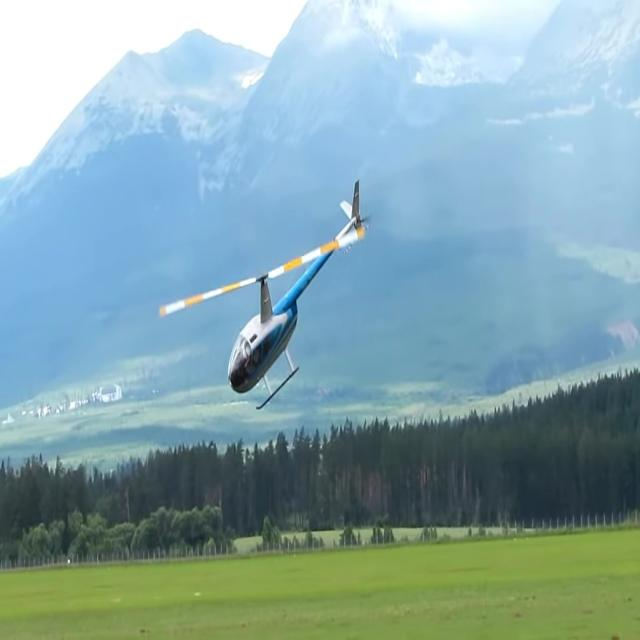CIV_HELO: (226, 177, 367, 414)
